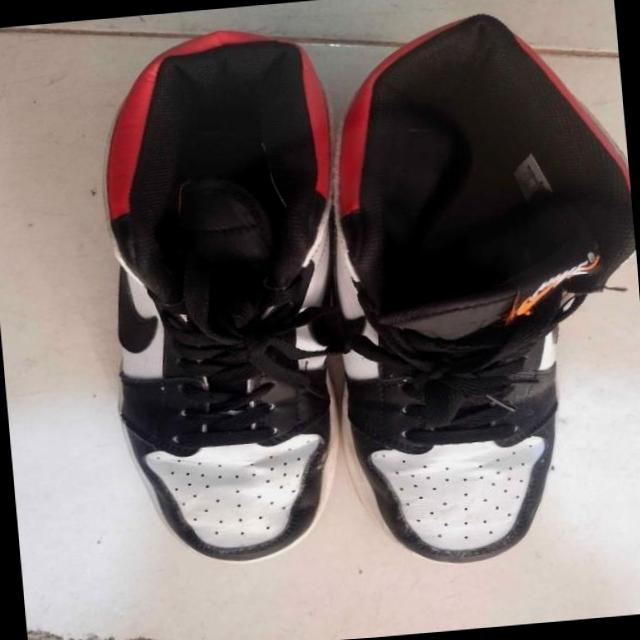nike_fake_jordan: (294, 0, 640, 574), (75, 16, 365, 574)
